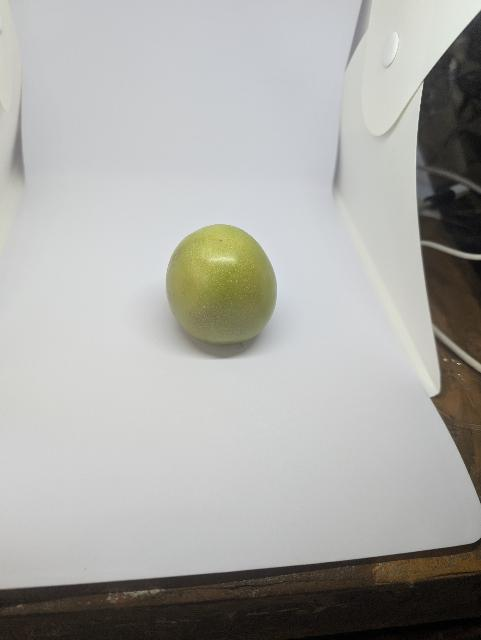green: (150, 212, 286, 369)
